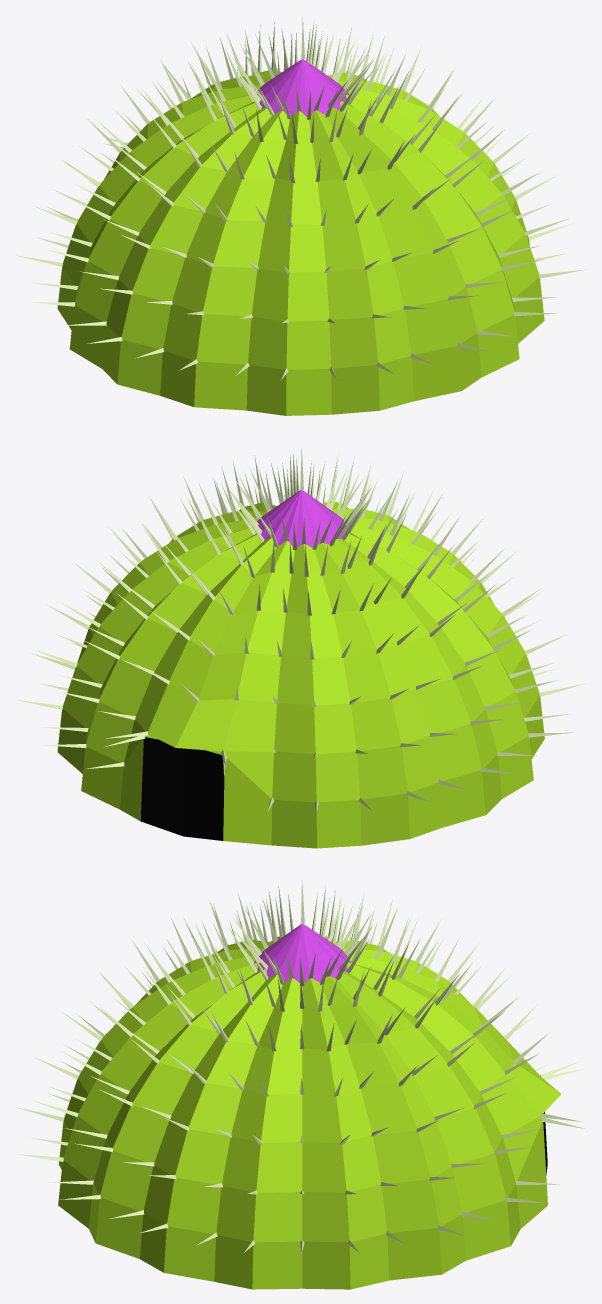
Rendered from ThorntownCactus.fbx.
The picture shows the model from 3 angles, top to bottom: view 1: azimuth 30°, elevation 25°; view 2: azimuth 150°, elevation 25°; view 3: azimuth 270°, elevation 25°; orthographic projection. The views are drawn at different scales.
Visible parts, largest first — view 1: Sphere, Cone.001; view 2: Sphere, Cone.001; view 3: Sphere, Cone.001.
Boxes of the visible parts, x1,y1,x2,y2 form: Sphere: (57,59,544,415); Cone.001: (15,16,585,380); Sphere: (57,490,544,848); Cone.001: (16,448,586,813); Sphere: (58,924,561,1289); Cone.001: (16,880,586,1253).
Size of the model in its own units: 227 by 136 by 225.
